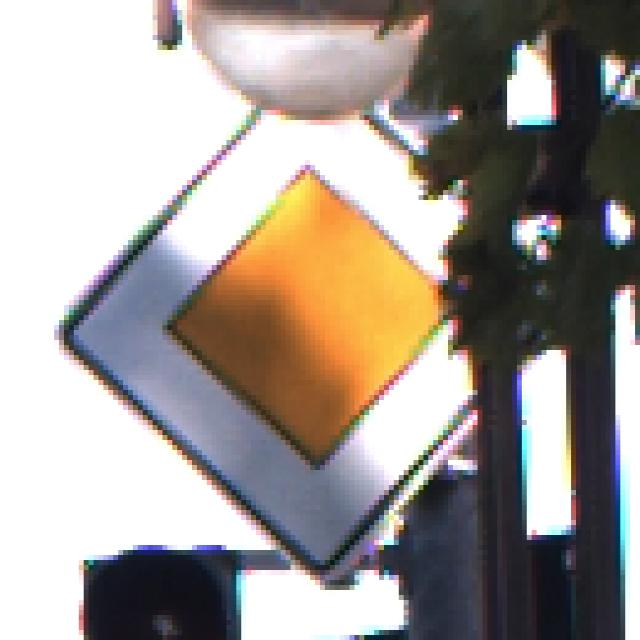Main Road: (55, 61, 587, 586)
